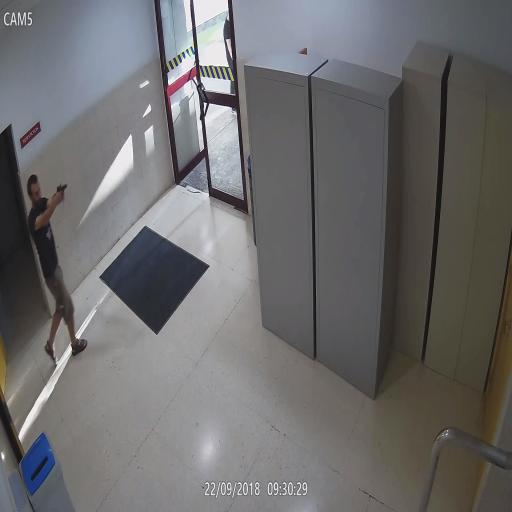Handgun: (52, 181, 68, 207)
